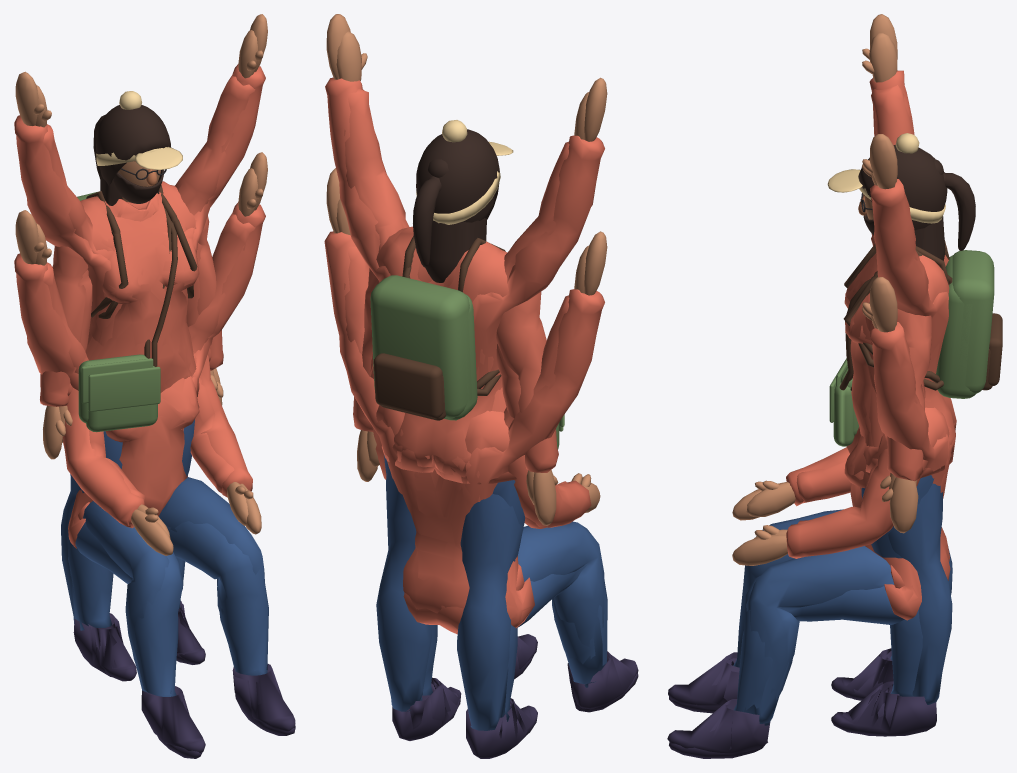
Rendered from villager.glb.
The picture shows the model from 3 angles, left to right: view 1: azimuth 30°, elevation 25°; view 2: azimuth 150°, elevation 25°; view 3: azimuth 270°, elevation 25°; orthographic projection. The views are drawn at different scales.
Visible parts, largest first — view 1: body_f_sit, body_m_sit, body_f_cheer, body_m_cheer, body_m_sitcheer, body_m_stand, body_f_sitcheer, body_f_stand, bag_f, curly, bag_m, backpack_f (+4 smaller); view 2: body_m_cheer, body_m_sitcheer, body_m_sit, backpack_m, body_m_stand, body_f_cheer, body_f_sitcheer, curly, body_f_sit, body_f_stand, long, ponytail (+2 smaller); view 3: body_m_sit, body_m_cheer, body_f_sit, body_f_cheer, body_m_sitcheer, backpack_m, body_m_stand, backpack_f, curly, body_f_stand, bag_f, body_f_sitcheer (+4 smaller).
Boxes of the visible parts, <box> form: body_f_sit: <box>68,377,295,758</box>; body_m_sit: <box>62,353,295,752</box>; body_f_cheer: <box>35,30,257,681</box>; body_m_cheer: <box>14,14,267,676</box>; body_m_sitcheer: <box>14,152,267,587</box>; body_m_stand: <box>40,181,223,459</box>; body_f_sitcheer: <box>35,168,257,674</box>; body_f_stand: <box>59,201,217,442</box>; bag_f: <box>86,221,177,432</box>; curly: <box>96,105,170,185</box>; bag_m: <box>78,185,171,423</box>; backpack_f: <box>91,196,197,317</box>; body_m_cheer: <box>325,14,607,758</box>; body_m_sitcheer: <box>324,168,607,613</box>; body_m_sit: <box>372,405,638,709</box>; backpack_m: <box>370,235,505,418</box>; body_m_stand: <box>353,226,558,525</box>; body_f_cheer: <box>336,31,589,738</box>; body_f_sitcheer: <box>336,199,589,634</box>; curly: <box>416,129,499,222</box>; body_f_sit: <box>409,473,638,712</box>; body_f_stand: <box>367,261,534,504</box>; long: <box>425,218,486,282</box>; ponytail: <box>413,176,441,267</box>; body_m_sit: <box>667,407,950,753</box>; body_m_cheer: <box>842,14,956,736</box>; body_f_sit: <box>669,432,921,758</box>; body_f_cheer: <box>831,33,955,735</box>; body_m_sitcheer: <box>746,194,951,622</box>; backpack_m: <box>858,240,1002,393</box>; body_m_stand: <box>867,248,956,533</box>; backpack_f: <box>843,246,992,398</box>; curly: <box>858,145,947,230</box>; body_f_stand: <box>844,253,955,489</box>; bag_f: <box>829,254,919,446</box>; body_f_sitcheer: <box>845,235,921,620</box>.
Size of the model in its own units: 0.8448 by 2.08 by 0.9561.
